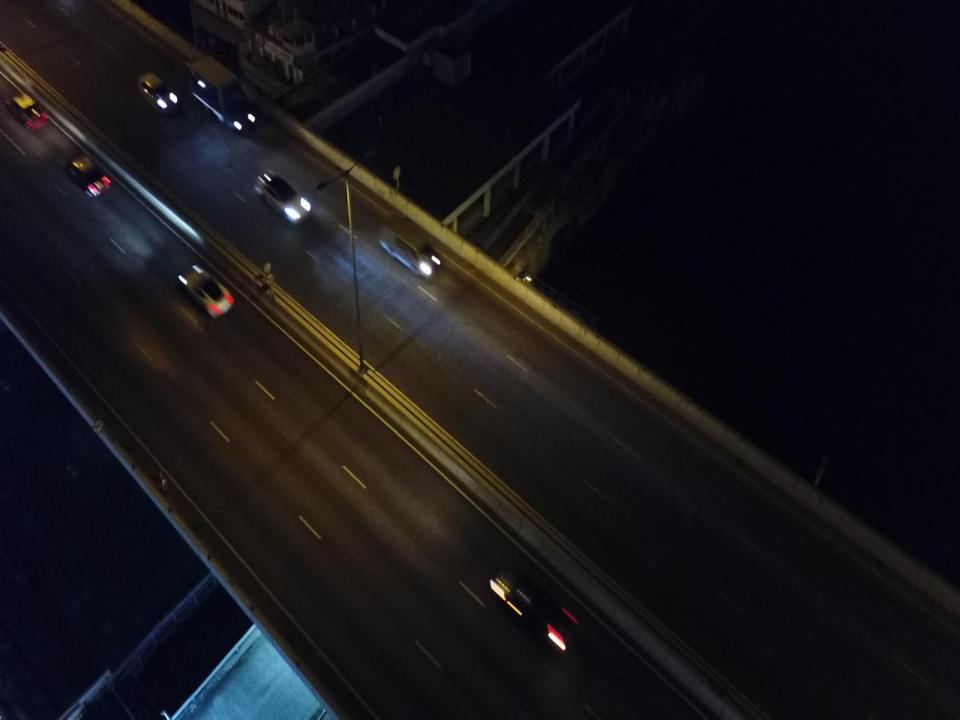car: (490, 567, 579, 654), (255, 170, 309, 224), (180, 263, 231, 317), (138, 74, 179, 114), (70, 156, 108, 195), (8, 95, 48, 130)
truck: (189, 58, 253, 129)
van: (380, 215, 439, 277)
